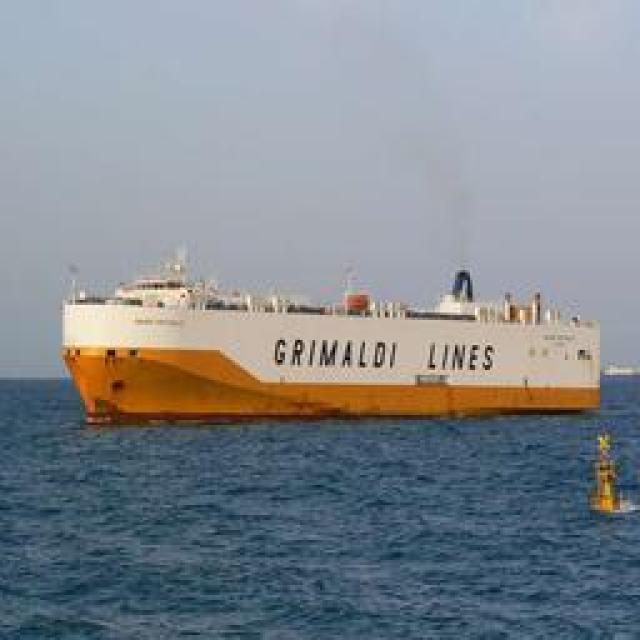CIV_Ship: (70, 250, 608, 420)
